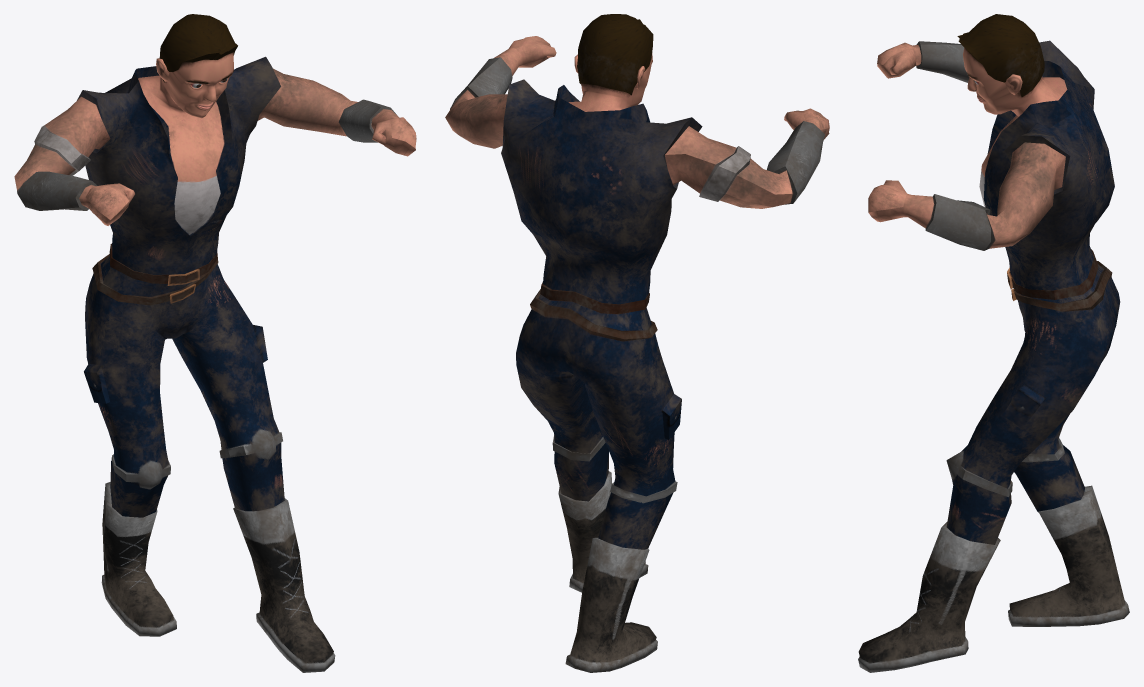
Rendered from Anim_ataque_d3_jugador.0048.obj.
3 views of the same model, side by side, from view 1: azimuth 30°, elevation 25°; view 2: azimuth 150°, elevation 25°; view 3: azimuth 270°, elevation 25° (orthographic).
Parts seen in each view (by area): view 1: polySurface1; view 2: polySurface1; view 3: polySurface1.
Boxes of the visible parts, box(x1,y1,x2,y2) form: polySurface1: box(14, 14, 416, 672); polySurface1: box(445, 14, 829, 672); polySurface1: box(858, 14, 1129, 672).
Size of the model in its own units: 5.57 by 9.28 by 3.68.
